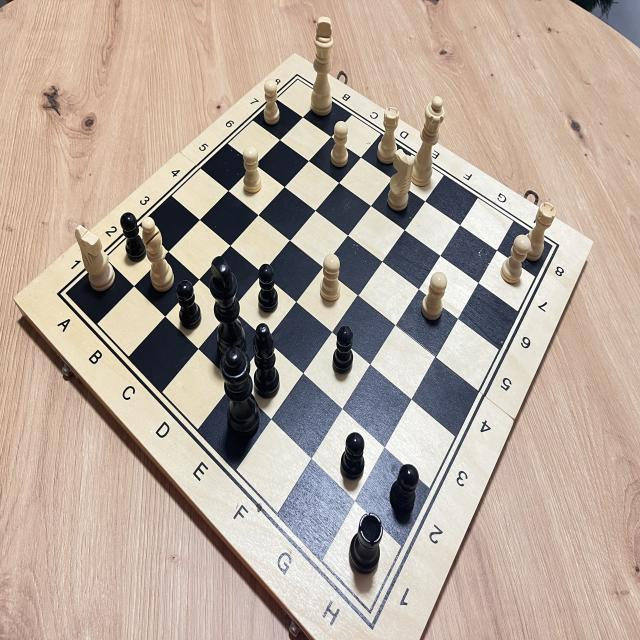black-bishop: (244, 316, 285, 408)
black-king: (200, 248, 251, 372)
black-pawn: (385, 457, 423, 518), (115, 204, 148, 270), (338, 425, 370, 489), (329, 316, 358, 386), (171, 276, 204, 336), (252, 258, 284, 319)
black-queen: (215, 342, 262, 450)
black-rook: (344, 500, 386, 587)
white-bishop: (137, 214, 186, 300)
white-king: (302, 11, 338, 123)
white-knight: (72, 222, 118, 298), (382, 144, 420, 216)
white-pawn: (496, 229, 534, 290), (313, 250, 348, 310), (418, 267, 452, 325), (326, 116, 356, 176), (238, 142, 268, 200), (256, 76, 286, 127)
white-queen: (408, 90, 452, 197)
white-rook: (518, 194, 558, 264), (372, 98, 407, 172)
